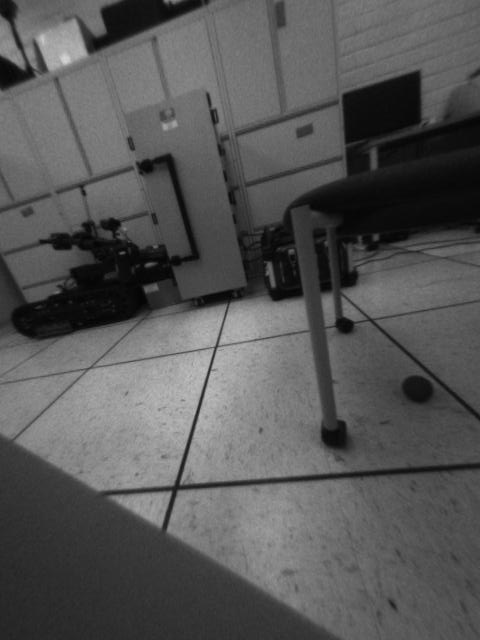dogtoy: (396, 366, 440, 408)
